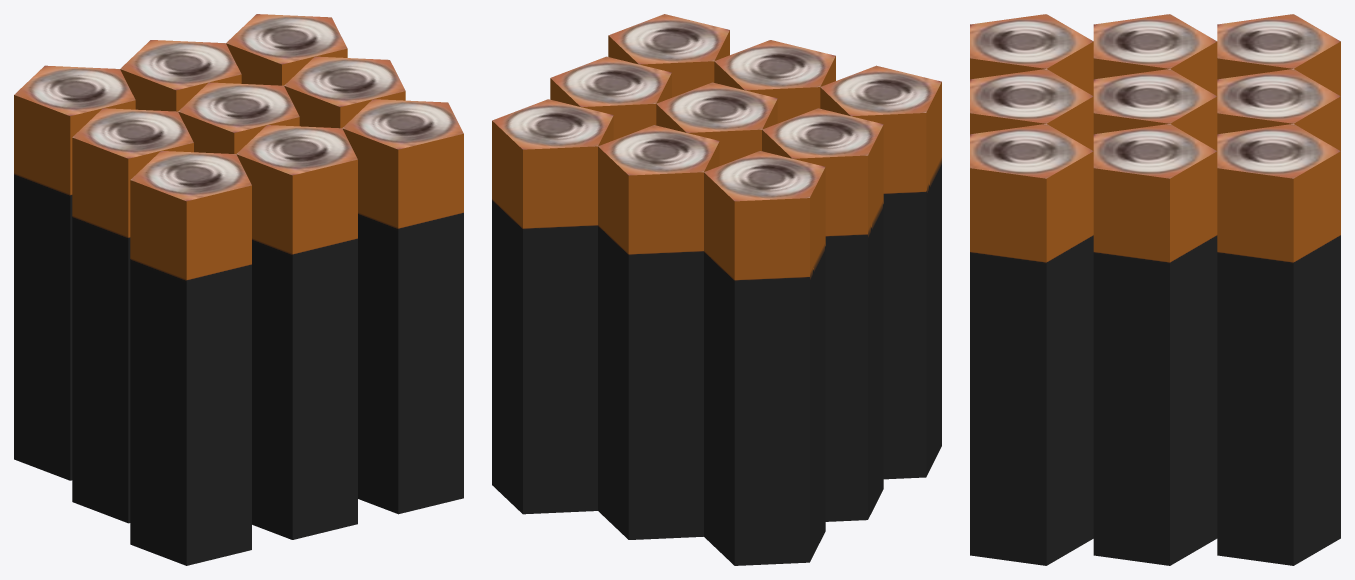
The model's file is Batteries.fbx.
3 views of the same model, side by side, from view 1: azimuth 30°, elevation 25°; view 2: azimuth 150°, elevation 25°; view 3: azimuth 270°, elevation 25° (orthographic). The views are drawn at different scales.
Visible parts, largest first — view 1: Batteries; view 2: Batteries; view 3: Batteries.
Boxes of the visible parts, x1,y1,x2,y2 form: Batteries: (14, 14, 463, 565); Batteries: (492, 14, 941, 565); Batteries: (970, 14, 1340, 565).
Bounding box in the file's own units: 0.0953 × 0.1045 × 0.0906.
